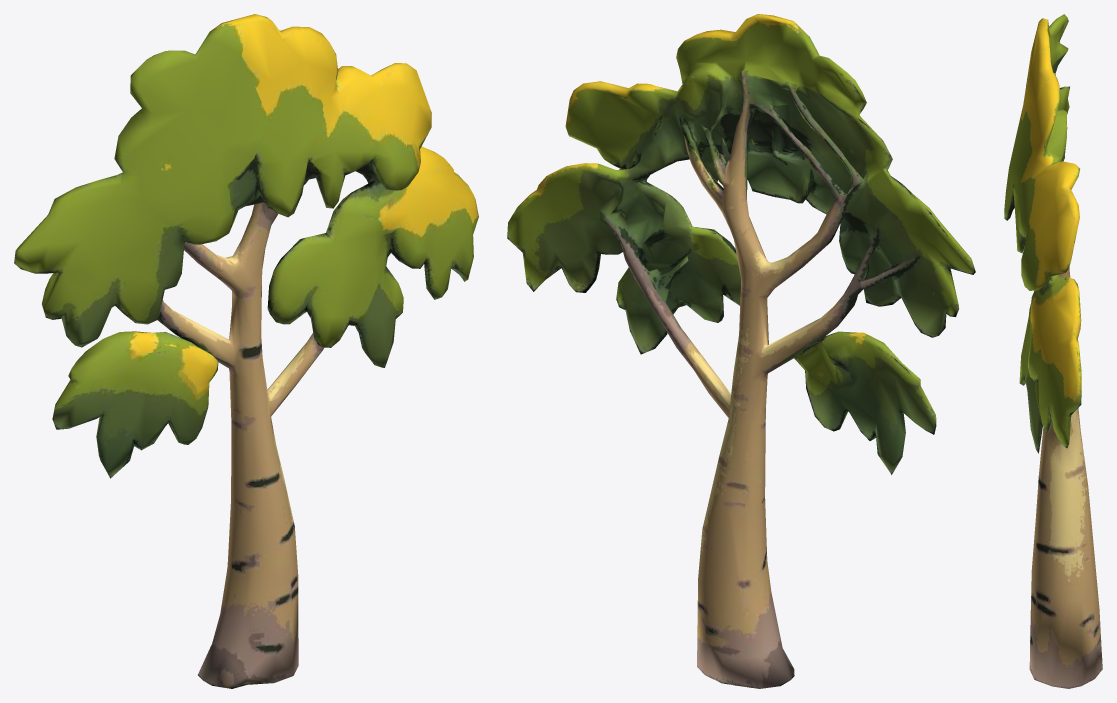
Rendered from betulla.glb.
3 views of the same model, side by side, from view 1: azimuth 30°, elevation 25°; view 2: azimuth 150°, elevation 25°; view 3: azimuth 270°, elevation 25° (orthographic). The views are drawn at different scales.
Visible parts, largest first — view 1: geometry_0; view 2: geometry_0; view 3: geometry_0.
Boxes of the visible parts, x1,y1,x2,y2 form: geometry_0: (14, 14, 478, 688); geometry_0: (507, 14, 975, 688); geometry_0: (1004, 14, 1102, 688).
Bounding box in the file's own units: 5.34 × 7.2 × 1.02.
1 material, 1 textured.
